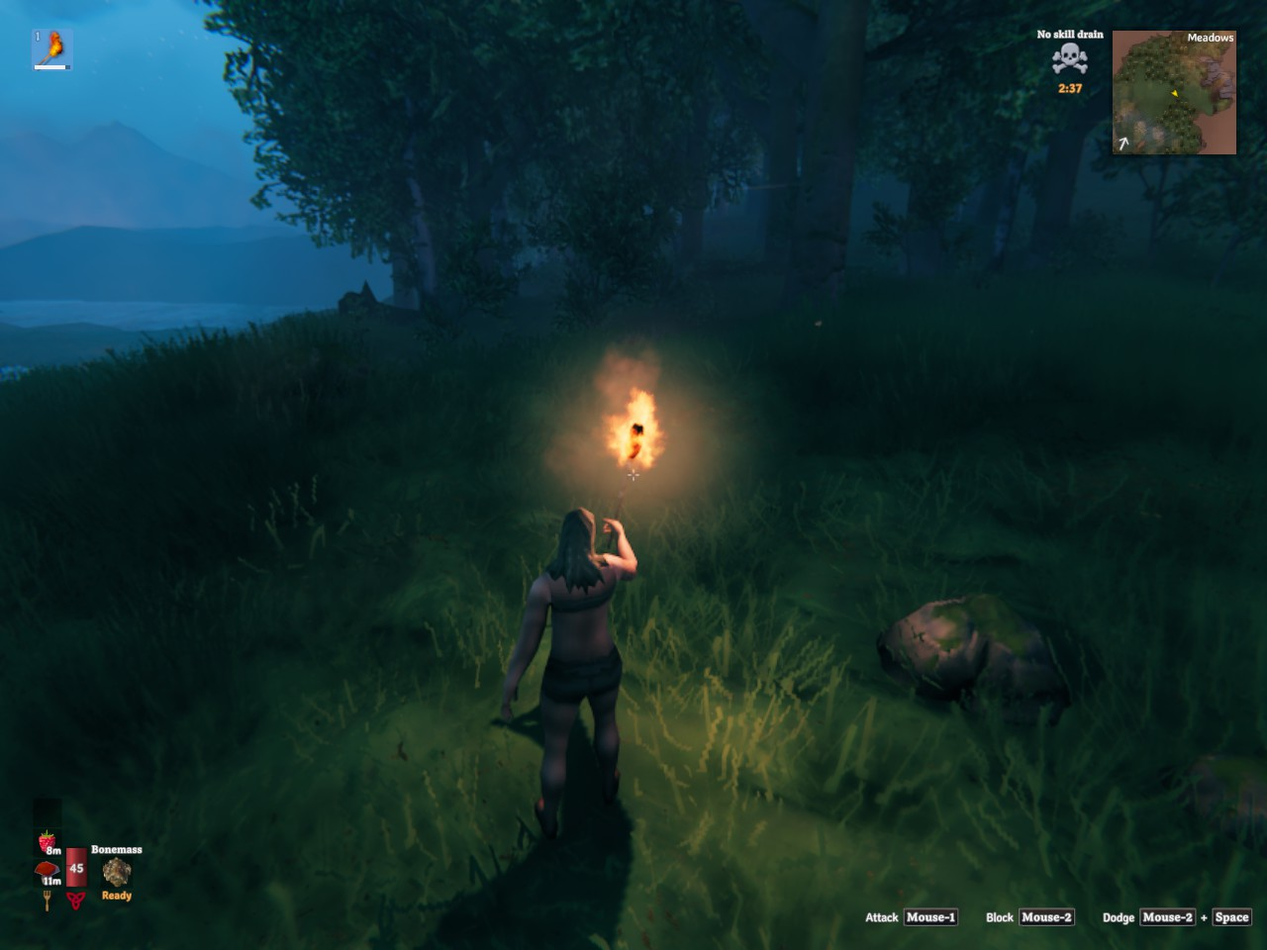Torch: (630, 424, 642, 460)
